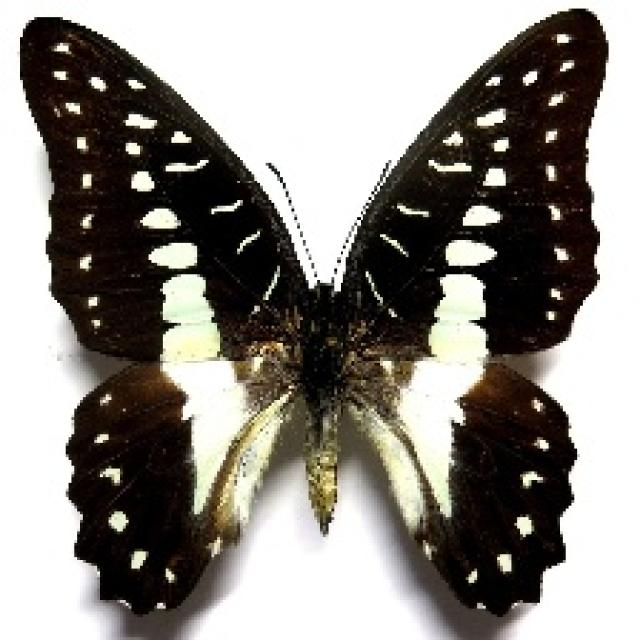butterfly: (14, 6, 609, 617)
